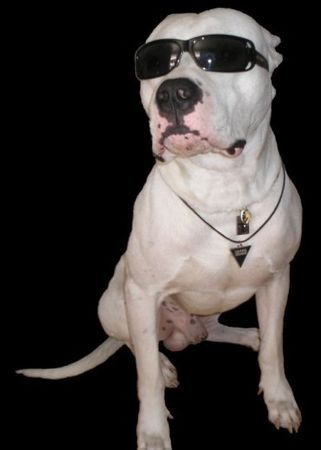dogo_argentino: (14, 7, 302, 450)
